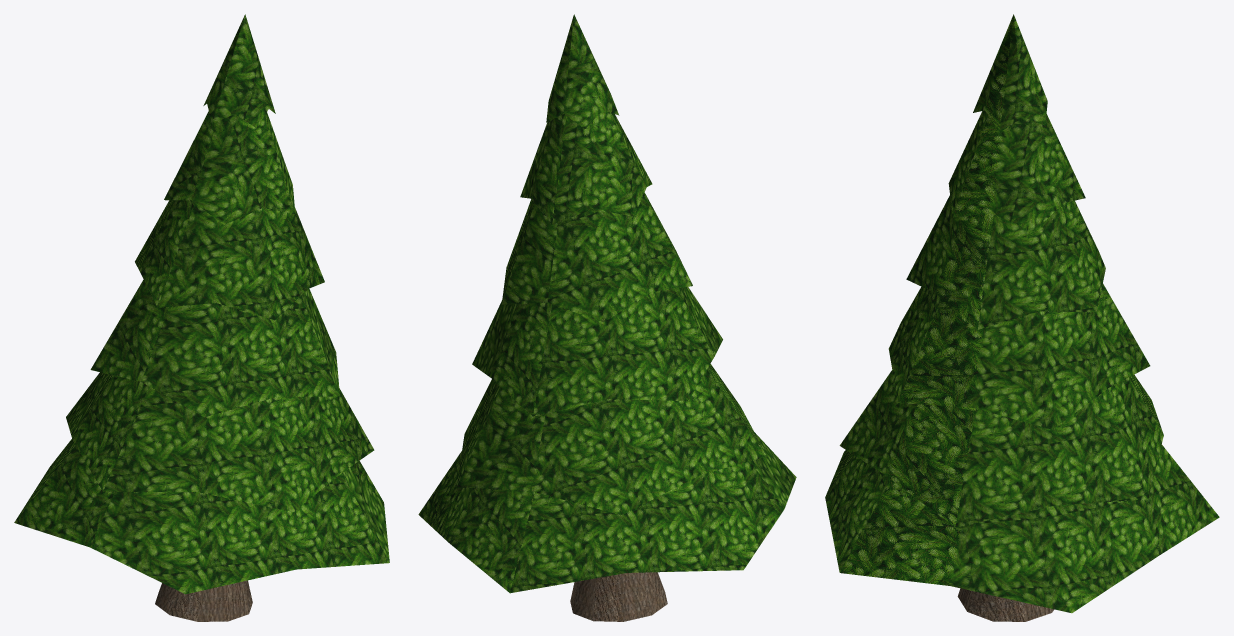
The model's file is treefalls2.obj.
3 views of the same model, side by side, from view 1: azimuth 30°, elevation 25°; view 2: azimuth 150°, elevation 25°; view 3: azimuth 270°, elevation 25° (orthographic). The views are drawn at different scales.
Visible parts, largest first — view 1: Cylinder.002_Cylinder.013, Cylinder.001_Cylinder.012; view 2: Cylinder.002_Cylinder.013, Cylinder.001_Cylinder.012; view 3: Cylinder.002_Cylinder.013, Cylinder.001_Cylinder.012.
Boxes of the visible parts, left/top/right/bottom form: Cylinder.002_Cylinder.013: left=14, top=14, right=389, bottom=594; Cylinder.001_Cylinder.012: left=155, top=580, right=252, bottom=621; Cylinder.002_Cylinder.013: left=418, top=14, right=796, bottom=593; Cylinder.001_Cylinder.012: left=570, top=572, right=667, bottom=621; Cylinder.002_Cylinder.013: left=825, top=14, right=1219, bottom=613; Cylinder.001_Cylinder.012: left=957, top=588, right=1054, bottom=621.
Bounding box in the file's own units: 2.28 × 3.86 × 2.27.
